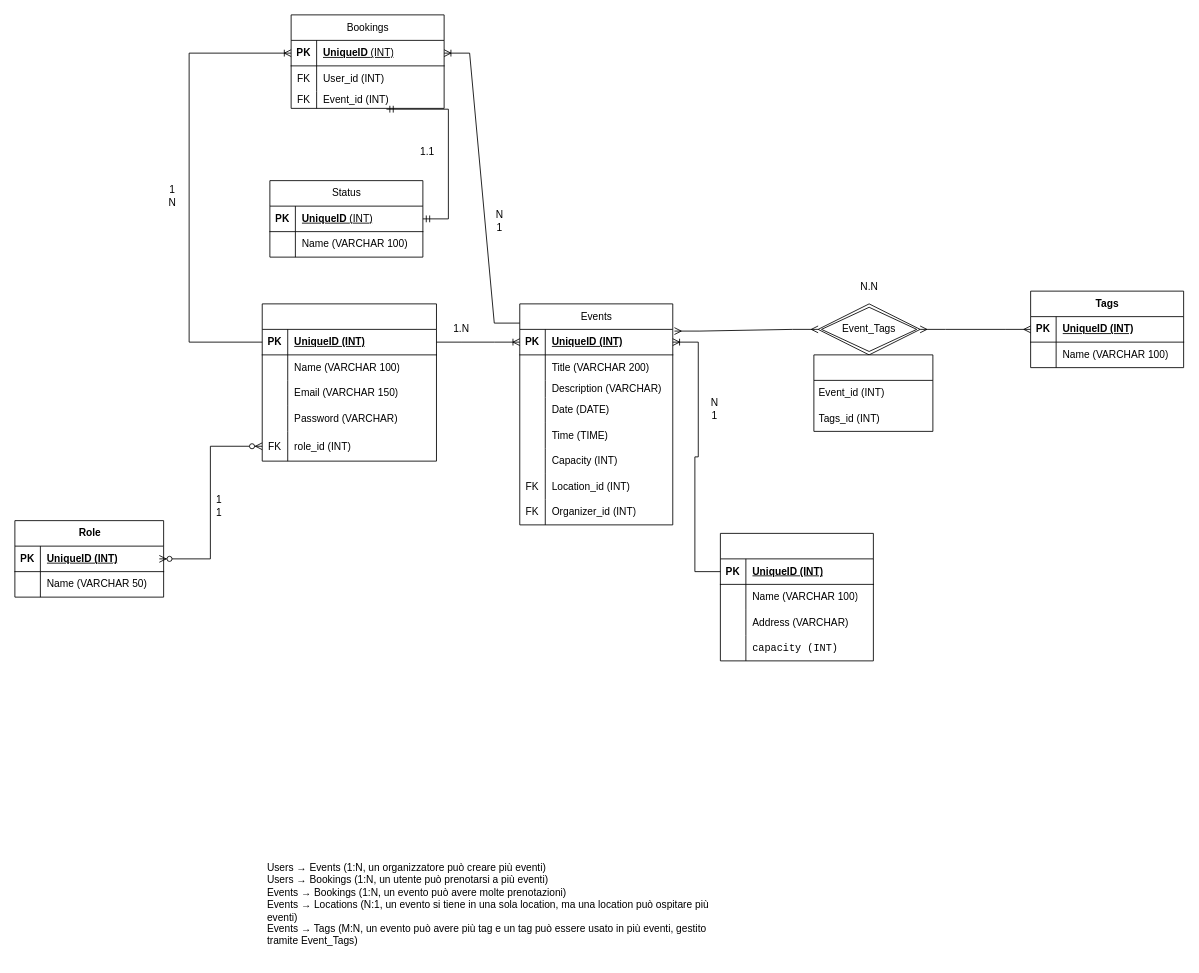
Some shapes in this 1199 by 973 pixel diagram are drawn without their labels. The shapes that lost their labels are listed below. From the top down, each one's box as (x1, y1, x2, y2) in pixels, then its label:
(261, 303, 436, 461): User
(813, 354, 933, 431): List
(720, 533, 873, 661): Locations
